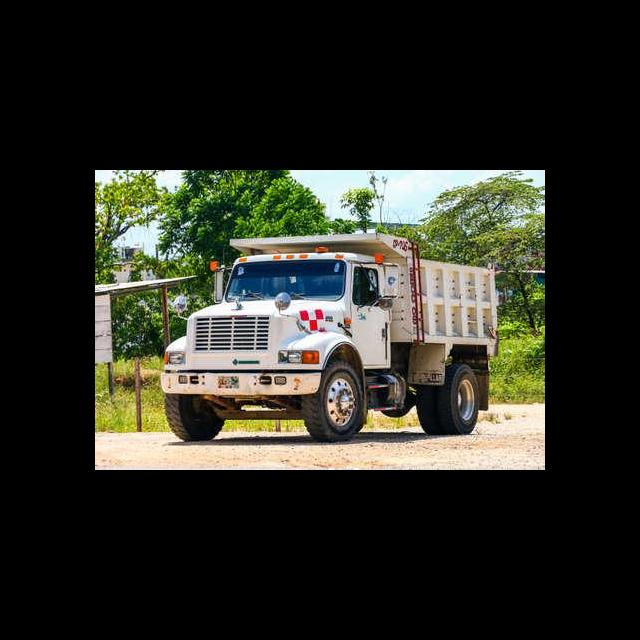dump truck: (159, 233, 502, 442)
